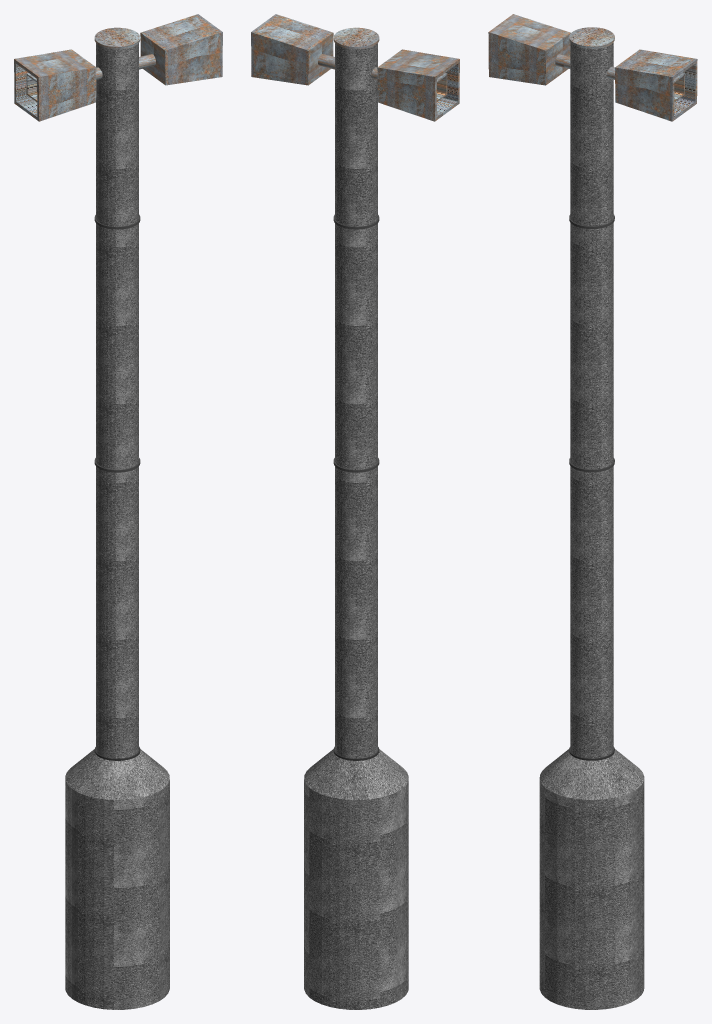
The model's file is Siren.glb.
The picture shows the model from 3 angles, left to right: view 1: azimuth 30°, elevation 25°; view 2: azimuth 150°, elevation 25°; view 3: azimuth 330°, elevation 25°; orthographic projection.
Parts seen in each view (by area): view 1: Siren; view 2: Siren; view 3: Siren.
Part boxes in pixels (bbox=[...]): Siren: bbox=[14, 14, 222, 1009]; Siren: bbox=[251, 14, 459, 1009]; Siren: bbox=[488, 14, 697, 1009].
Bounding box in the file's own units: 4.06 × 20 × 2.
Materials: 9 (7 with a texture image).
